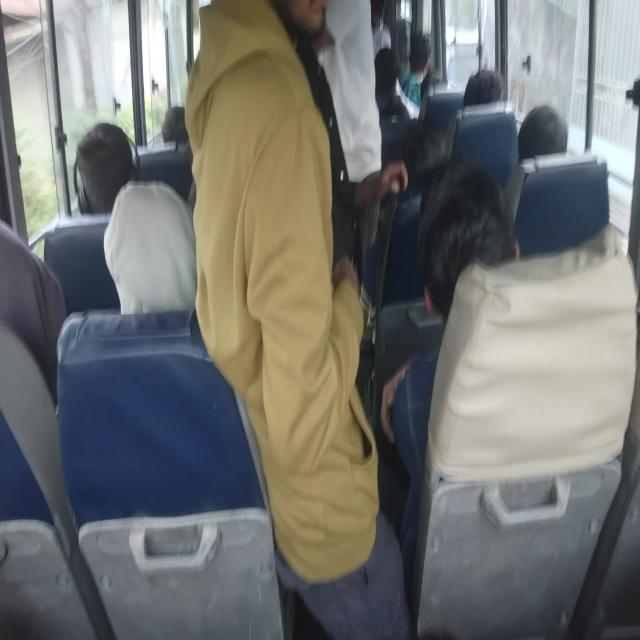person: (184, 0, 304, 161), (416, 160, 516, 324), (0, 213, 66, 406), (509, 152, 612, 262), (307, 0, 379, 127), (77, 132, 142, 228), (447, 103, 519, 185), (134, 142, 194, 208), (516, 104, 568, 160), (401, 117, 447, 167), (463, 67, 505, 108), (374, 42, 406, 90), (410, 33, 433, 81), (160, 109, 191, 139)
